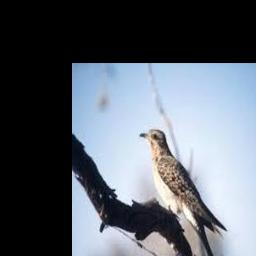Cuckoo: (140, 129, 227, 256)
